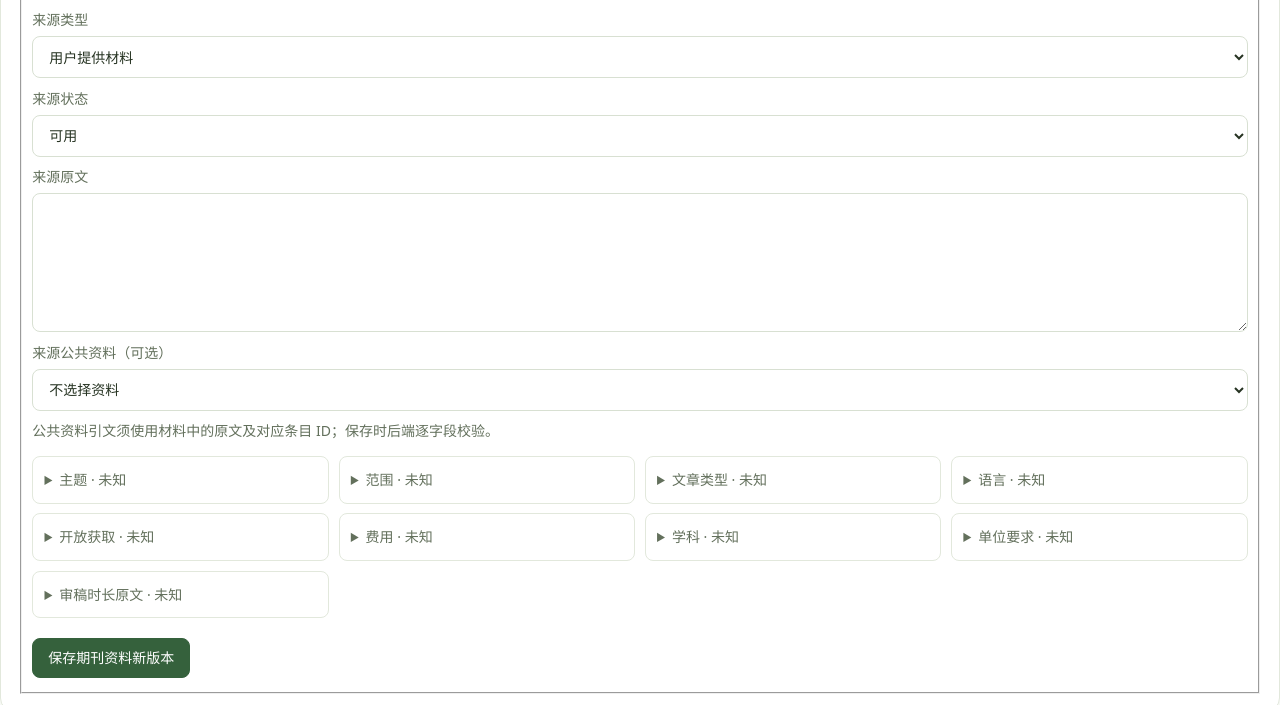
Scenario: previews selected public material with item IDs for verbatim field evidence
(page scrolled)
Select "Public source · document_version" in the dropdown labelled "来源公共资料（可选）" at (640, 390), box [32,368,1248,410]
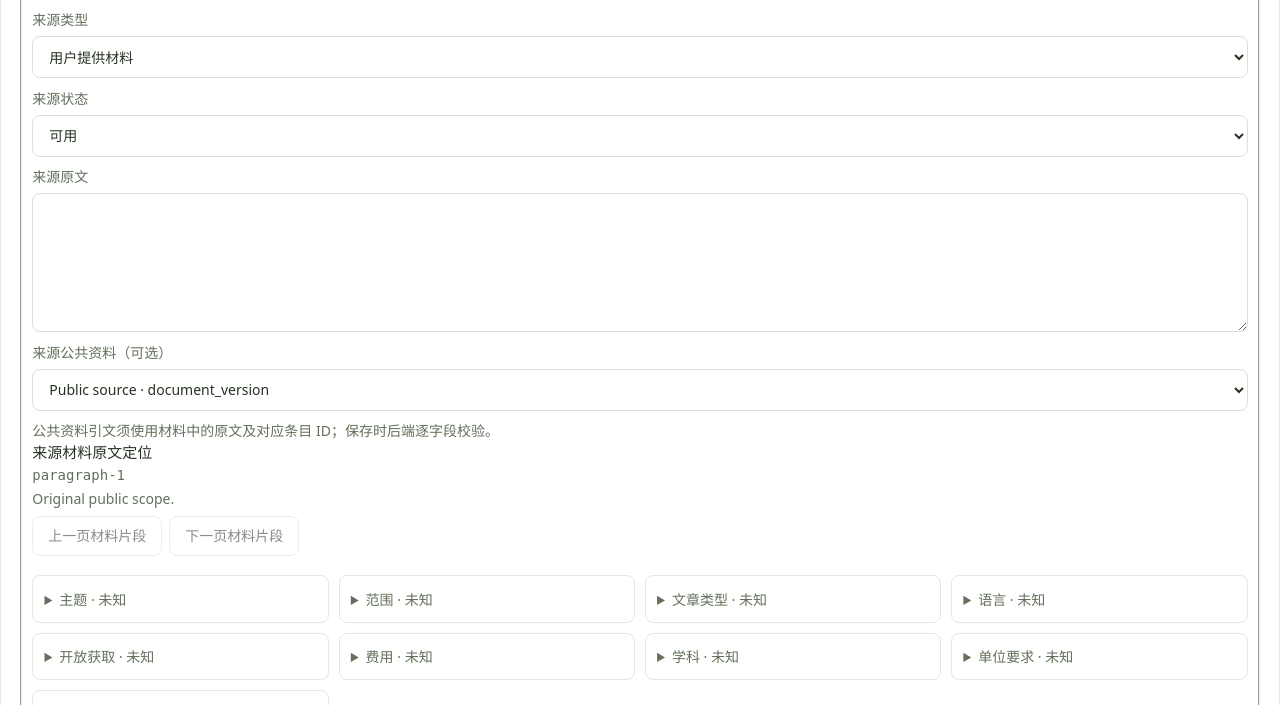
Result: the text "Original public scope." is shown at [32,489,174,508]
Result: the text "paragraph-1" is shown at [32,467,125,483]
